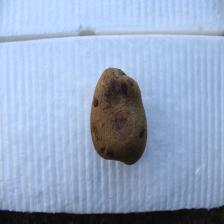Diseased-fungal potato: (88, 66, 147, 168)
